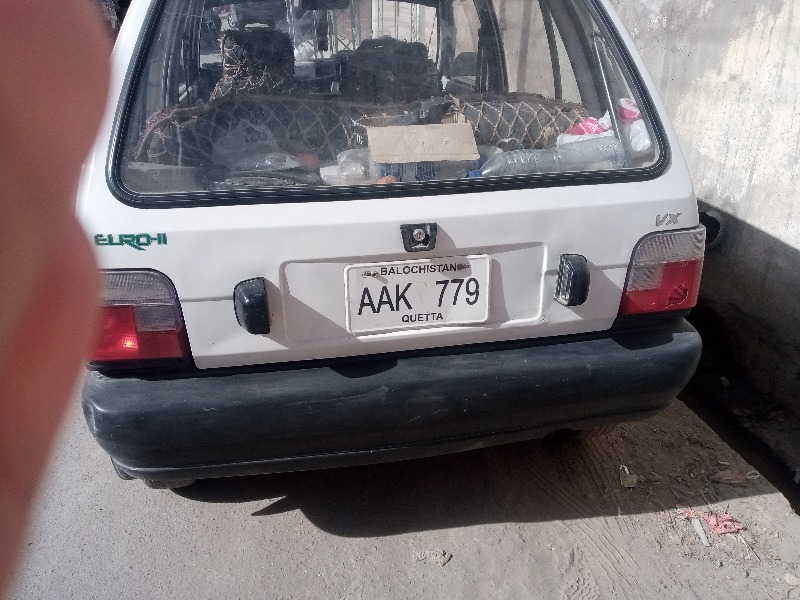License Plate: (342, 252, 495, 336)
